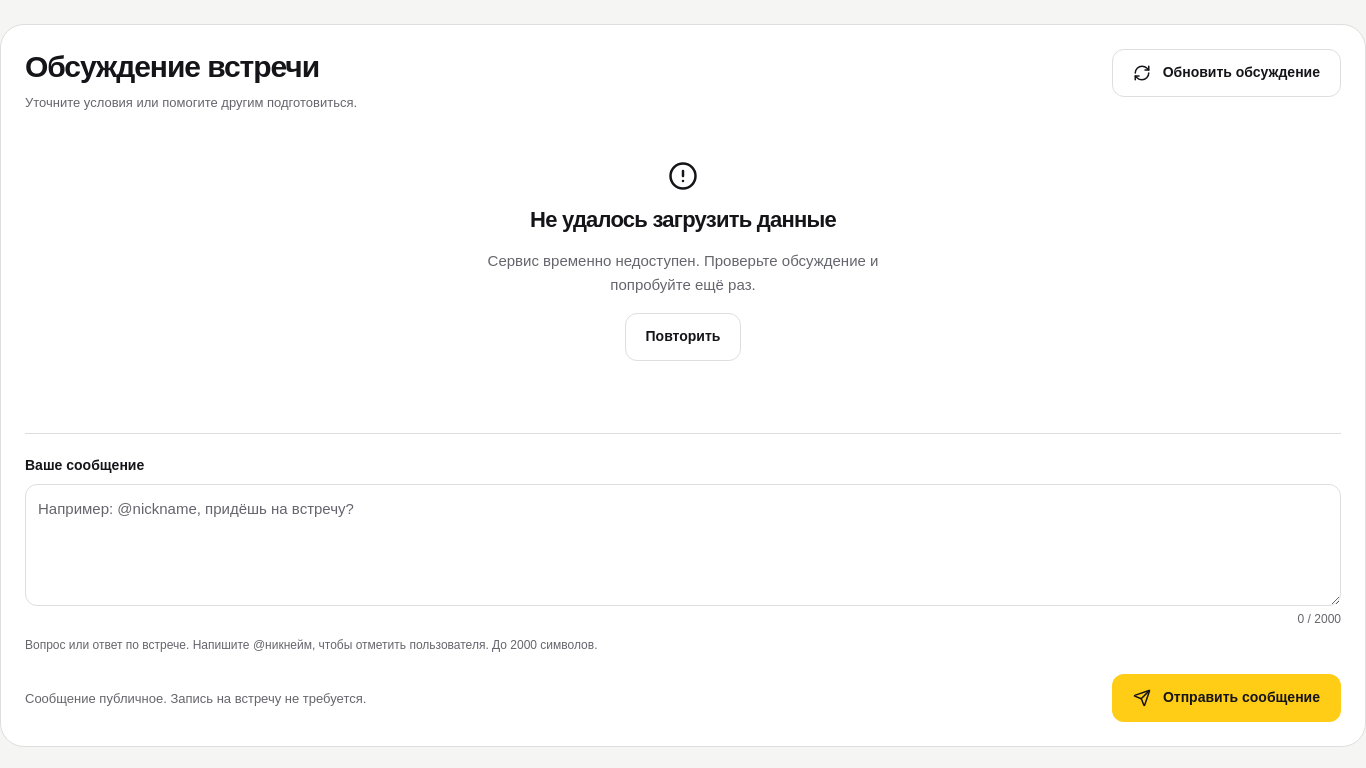
it: discussion UI › retries a list failure independently of the entered draft
expect the message is shown: met, box top-left (25, 112), bottom-right (1341, 409)
In the text box: {"x": 683, "y": 545} top-left (25, 484), bottom-right (1341, 606), type "Черновик вопроса"
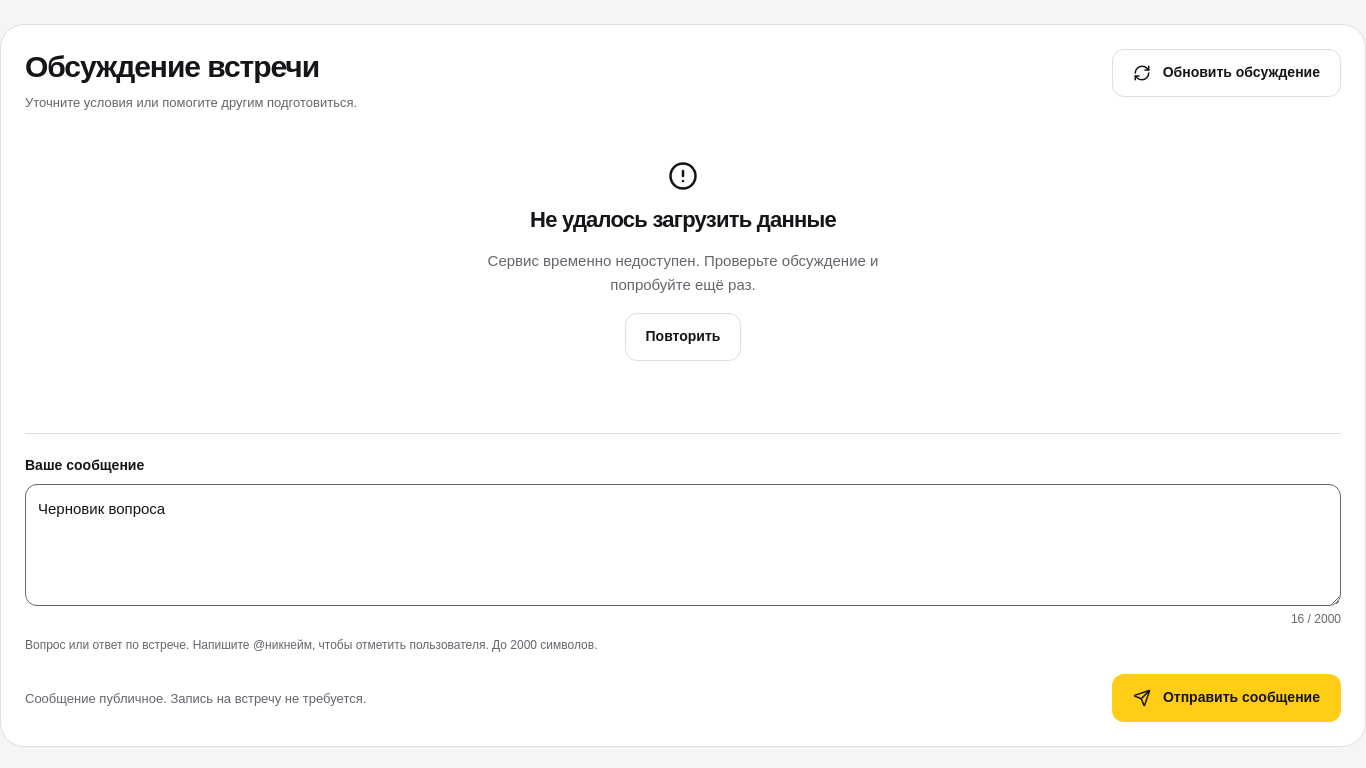
Click the button "Повторить": {"x": 683, "y": 337} top-left (624, 313), bottom-right (741, 361)
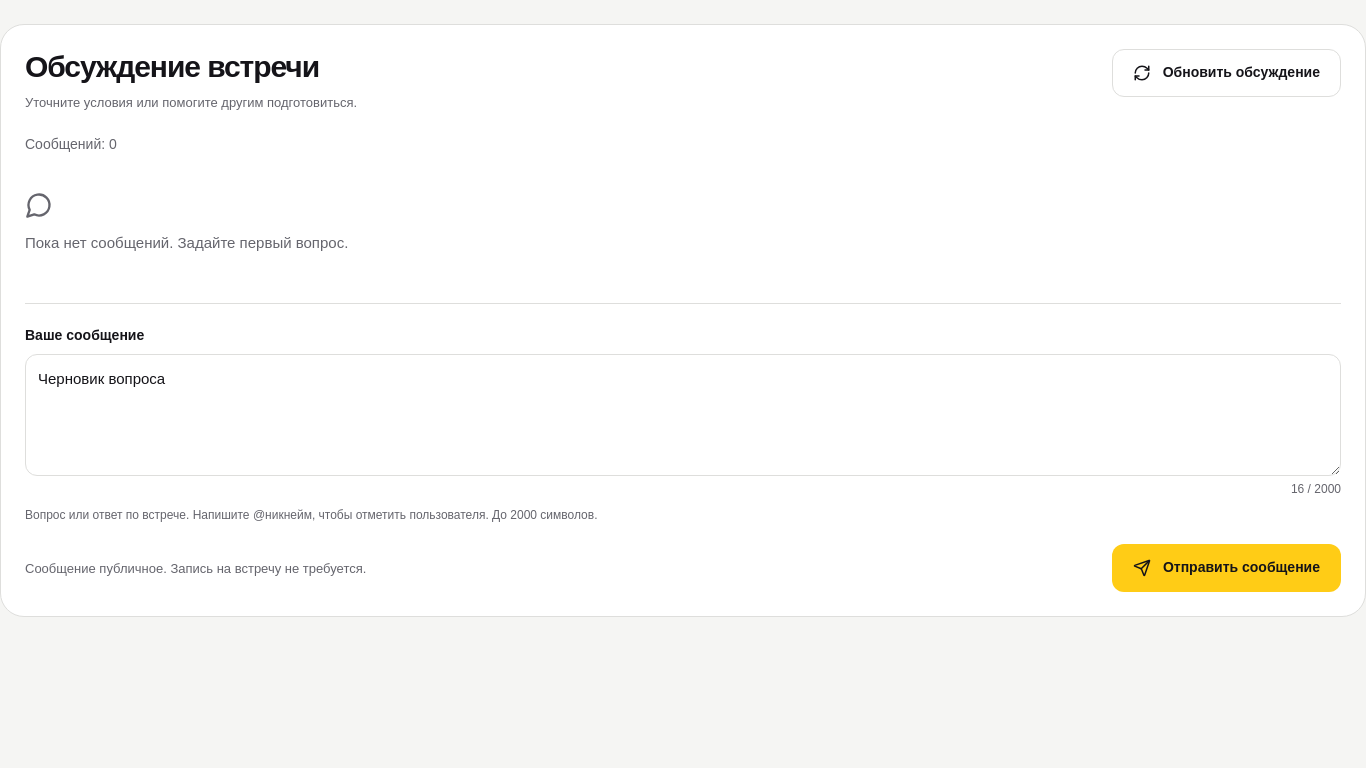
expect the text "Пока нет сообщений. Задайте первый вопрос." is shown: met, box top-left (25, 234), bottom-right (348, 251)
